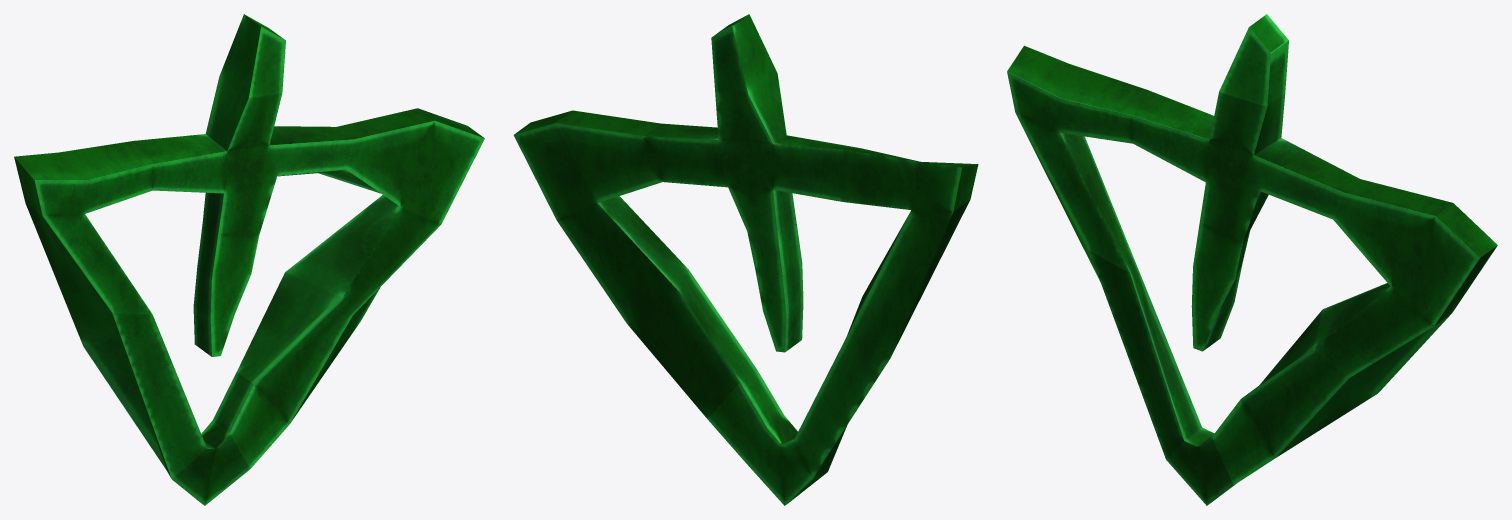
The model's file is FragmentoTierra(m).fbx.
The picture shows the model from 3 angles, left to right: view 1: azimuth 30°, elevation 25°; view 2: azimuth 150°, elevation 25°; view 3: azimuth 330°, elevation 25°; orthographic projection. The views are drawn at different scales.
Visible parts, largest first — view 1: Cube.030; view 2: Cube.030; view 3: Cube.030.
Boxes of the visible parts, box(x1,y1,x2,y2) form: Cube.030: box(14, 14, 484, 505); Cube.030: box(513, 14, 978, 505); Cube.030: box(1007, 14, 1497, 505).
Bounding box in the file's own units: 0.2942 × 0.2942 × 0.0373.
1 material, 1 textured.
